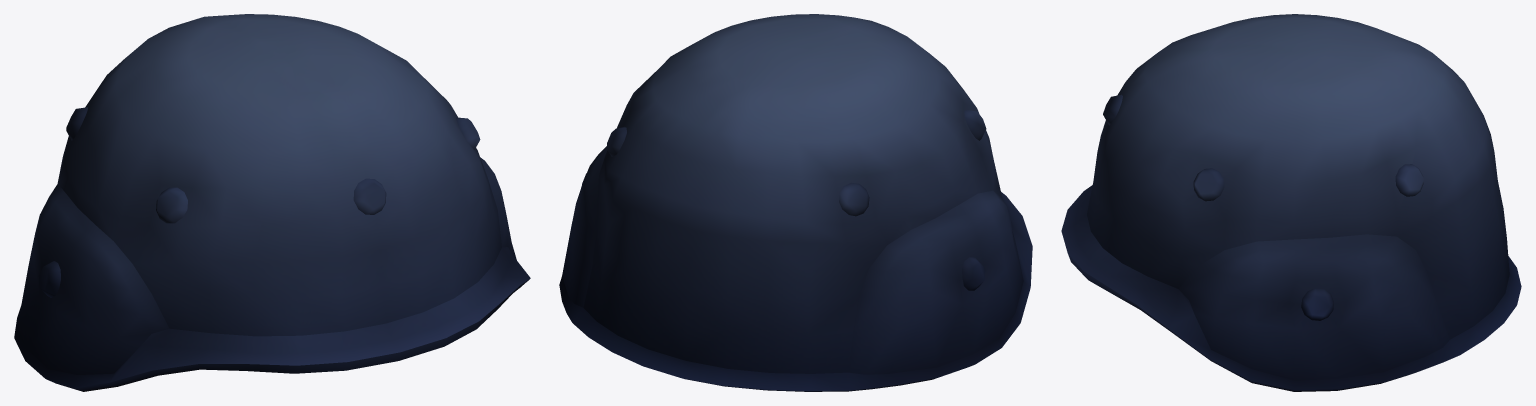
File: Cap_Assault_Helmet.gltf
3 views of the same model, side by side, from view 1: azimuth 30°, elevation 25°; view 2: azimuth 150°, elevation 25°; view 3: azimuth 270°, elevation 25° (orthographic). The views are drawn at different scales.
Visible parts, largest first — view 1: Cap_Assault_Helmet; view 2: Cap_Assault_Helmet; view 3: Cap_Assault_Helmet.
Boxes of the visible parts, box(x1,y1,x2,y2) form: Cap_Assault_Helmet: box(14, 14, 530, 391); Cap_Assault_Helmet: box(559, 14, 1032, 391); Cap_Assault_Helmet: box(1061, 14, 1521, 391).
Bounding box in the file's own units: 1.06 × 0.6329 × 1.04.
1 material, 1 textured.
